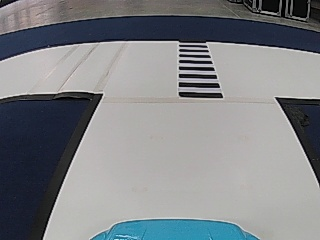CrossWalk: (176, 41, 224, 99)
